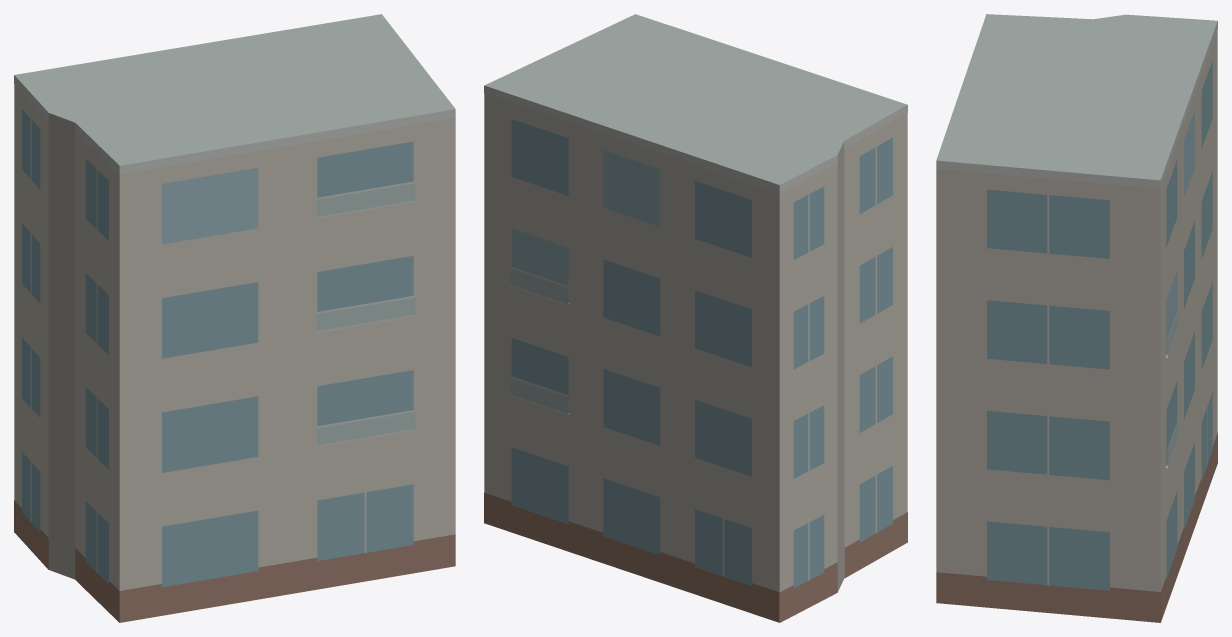
Rendered from survey-upis-32557140.glb.
3 renders of one model, left to right at view 1: azimuth 30°, elevation 25°; view 2: azimuth 150°, elevation 25°; view 3: azimuth 270°, elevation 25°, orthographic. The views are drawn at different scales.
Visible parts, largest first — view 1: survey-upis-32557140.tmp; view 2: survey-upis-32557140.tmp; view 3: survey-upis-32557140.tmp.
Part boxes in pixels (box(x1,y1,x2,y2)): survey-upis-32557140.tmp: box(14, 14, 455, 622); survey-upis-32557140.tmp: box(484, 14, 907, 622); survey-upis-32557140.tmp: box(936, 14, 1217, 622).
Bounding box in the file's own units: 10.41 × 12.9 × 7.45.
